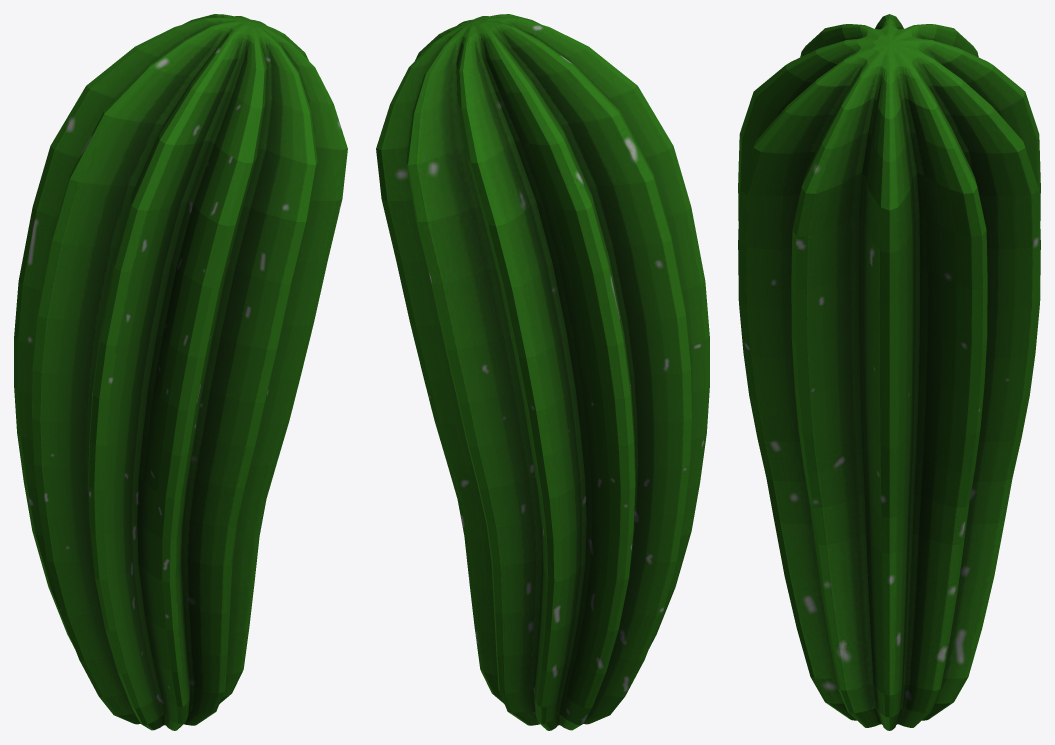
The model's file is CactusSingleOne.dae.
The picture shows the model from 3 angles, left to right: view 1: azimuth 30°, elevation 25°; view 2: azimuth 150°, elevation 25°; view 3: azimuth 270°, elevation 25°; orthographic projection. The views are drawn at different scales.
Visible parts, largest first — view 1: Circle; view 2: Circle; view 3: Circle.
Boxes of the visible parts, left/top/right/bottom form: Circle: left=14, top=14, right=347, bottom=730; Circle: left=376, top=14, right=709, bottom=730; Circle: left=738, top=14, right=1040, bottom=730.
Bounding box in the file's own units: 15.35 × 33.39 × 12.74.
1 material, 1 textured.
